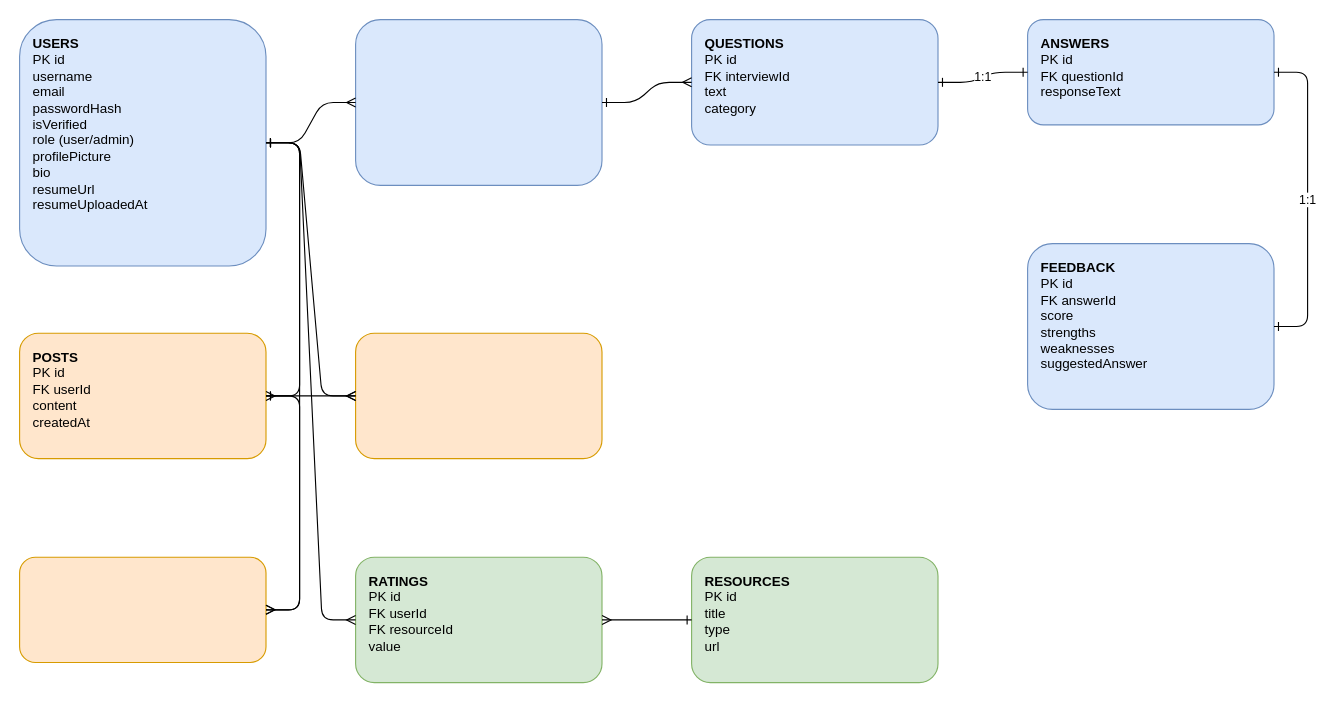
The diagram is 1337 pixels wide and 702 high, and some of its shapes have lost their labels. The centre of each missing label's shape, as x and y in pixels:
"COMMENTS PK id FK postId FK userId content" belongs at (x=478, y=395).
"INTERVIEWS PK id FK userId category difficulty createdAt score" belongs at (x=478, y=101).
"LIKES PK id FK userId FK postId" belongs at (x=142, y=609).
